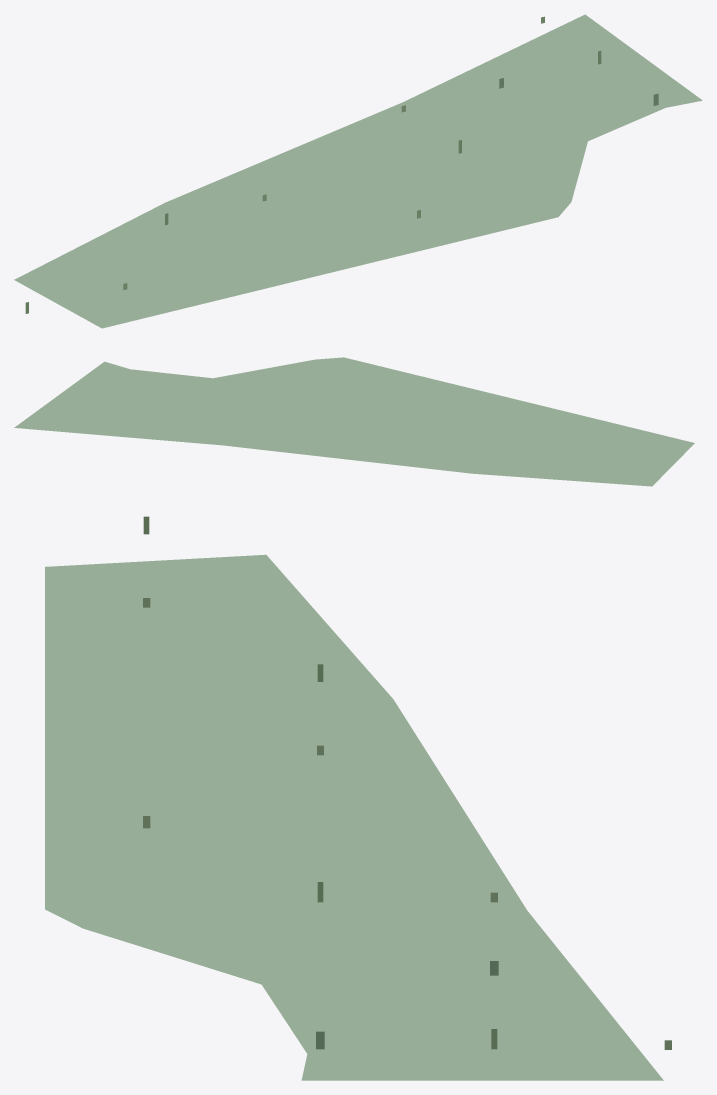
3 views of the same model, one above another, from view 1: azimuth 30°, elevation 25°; view 2: azimuth 150°, elevation 25°; view 3: azimuth 270°, elevation 25° (orthographic). The views are drawn at different scales.
Bounding box in the file's own units: 446 × 8 × 216.
